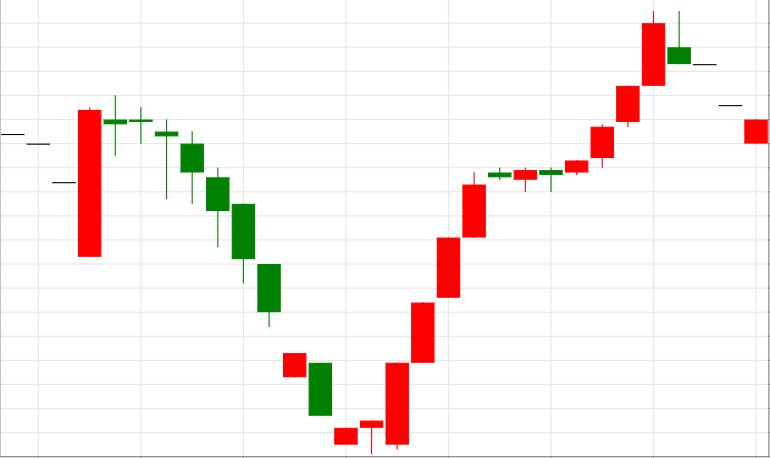three_white_soldiers_rise: (103, 94, 460, 454)
